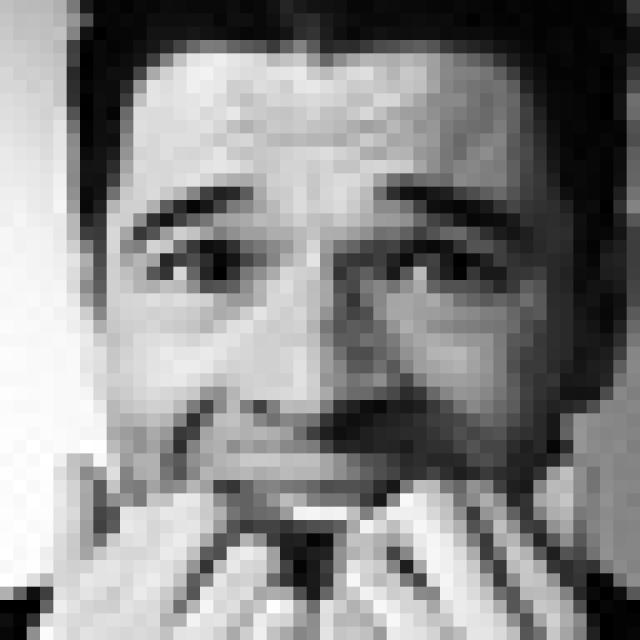fear: (124, 171, 550, 560)
